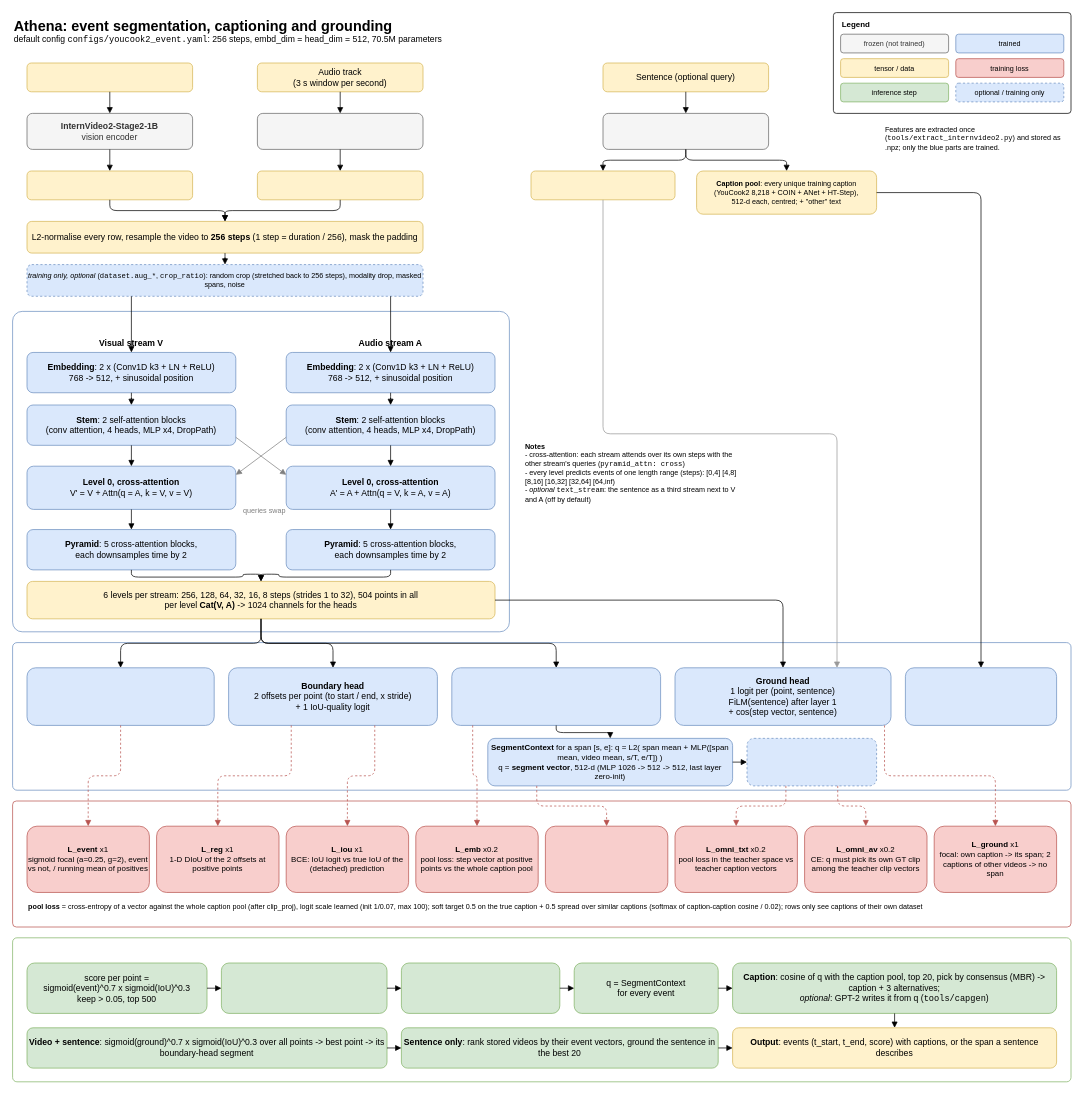
Image size: 1084x1094. Some labels were removed from this diagram. The shapes that lost their labels are listed below. From the top down, each one's box as (x1, y1, x2, y2) in pixels, then its label:
(26, 62, 193, 92): Video frames (4 frames at 2 fps per 1 s window)
(257, 113, 423, 149): BEATs (InternVideo2-6B-Audio)
(602, 113, 769, 149): InternVideo2 text tower (BERT-large)
(26, 170, 193, 200): v768 : T x 768, one row per second
(257, 170, 423, 200): a768 : T x 768, one row per second
(530, 170, 675, 200): sentence vector 512-d, centred
(12, 311, 509, 632): Backbone: ConvTransformer (UniAV)
(26, 667, 214, 725): Event head 1 logit per point: is this step inside an event? (class agnostic)
(12, 642, 1071, 790): Heads (shared over the 6 levels; 2 x (Conv1D + LN + ReLU) + output conv)
(451, 667, 661, 725): Embed head 512-d unit vector per point (+ level-0 raw features 512 x 256)
(905, 667, 1057, 725): clip_proj Linear 512 -> 512 text vectors -> event space
(746, 738, 877, 786): omni_proj : MLP 512 -> 3584 q into the teacher space (training only)
(12, 800, 1071, 927): Training losses: total = sum of weight x loss (weights from the config)
(545, 825, 668, 892): L_span x0.2 pool loss: q of each GT span + a copy jittered by up to 20%
(221, 962, 387, 1013): segment of a point = [p - o_start x stride, p + o_end x stride]
(401, 962, 560, 1013): Gaussian soft-NMS (sigma 0.5), at most 100 events
(12, 937, 1071, 1082): Inference
